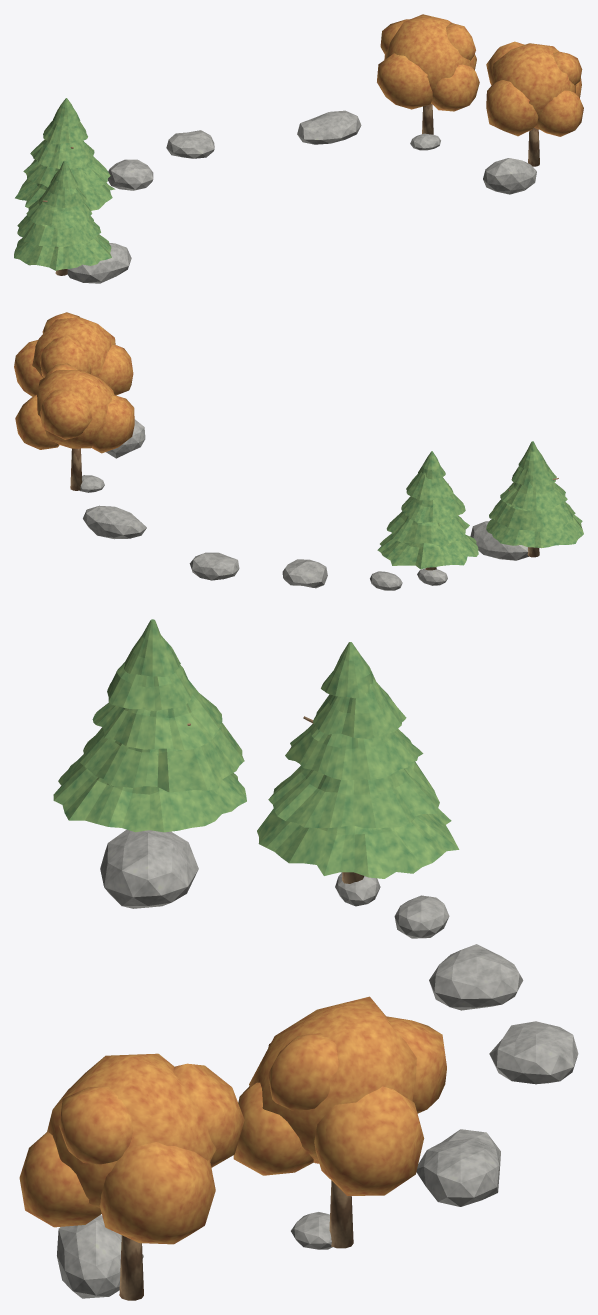
Rendered from stage_trees_overdare.fbx.
3 views of the same model, one above another, from view 1: azimuth 30°, elevation 25°; view 2: azimuth 150°, elevation 25°; view 3: azimuth 270°, elevation 25° (orthographic). The views are drawn at different scales.
Visible parts, largest first — view 1: stage_trees; view 2: stage_trees; view 3: stage_trees.
Boxes of the visible parts, x1=… form: stage_trees: x1=14, y1=14, x2=583, y2=283; stage_trees: x1=14, y1=312, x2=583, y2=590; stage_trees: x1=19, y1=619, x2=578, y2=1300.
Bounding box in the file's own units: 2098 × 507 × 907.
1 material, 1 textured.
